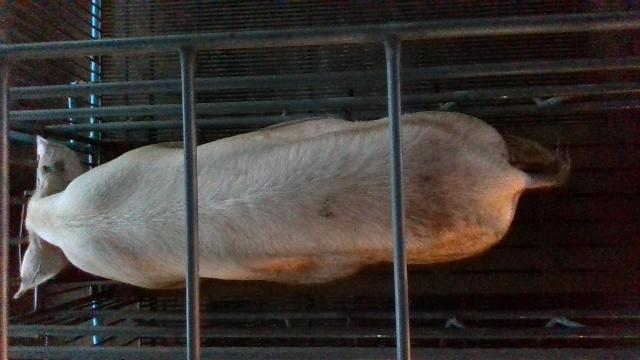sow-stand: (12, 110, 571, 300)
